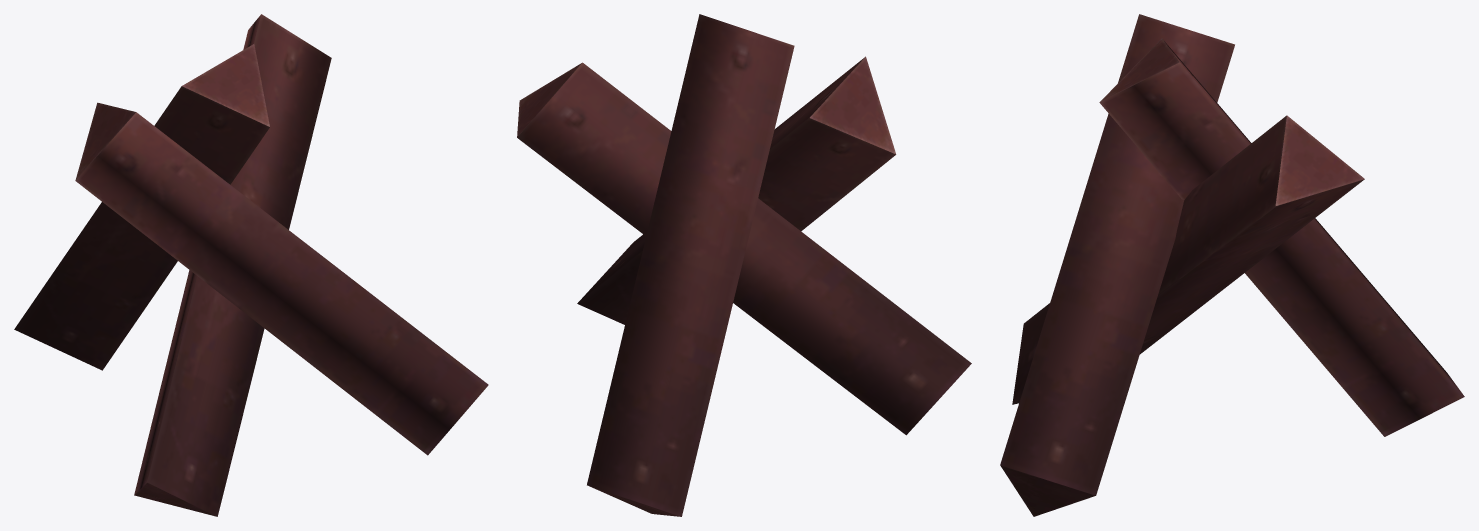
Rendered from ww2_beam.obj.
3 renders of one model, left to right at view 1: azimuth 30°, elevation 25°; view 2: azimuth 150°, elevation 25°; view 3: azimuth 270°, elevation 25°, orthographic. The views are drawn at different scales.
Parts seen in each view (by area): view 1: ww2_beam; view 2: ww2_beam; view 3: ww2_beam.
Part boxes in pixels (box(x1,y1,x2,y2)): ww2_beam: box(14, 14, 488, 516); ww2_beam: box(517, 14, 971, 516); ww2_beam: box(1000, 14, 1464, 516).
Bounding box in the file's own units: 0.8306 × 0.9072 × 0.9505.
1 material, 1 textured.
